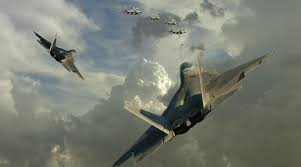fighter: (112, 49, 273, 165), (31, 30, 86, 81)
